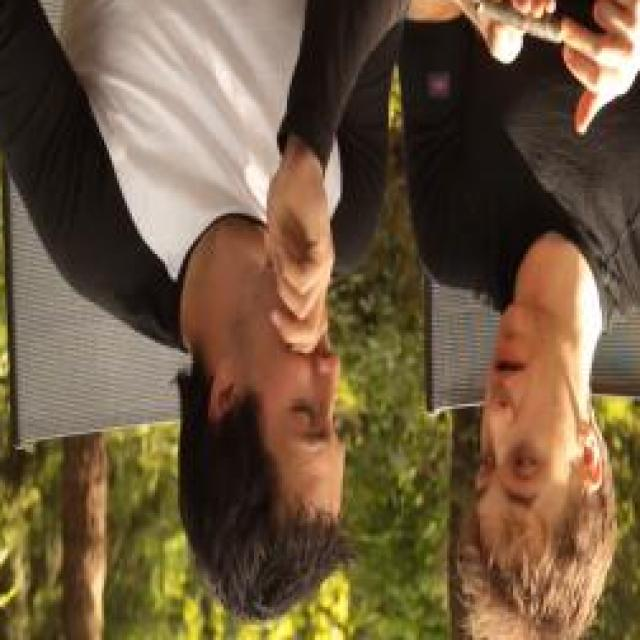knife: (398, 0, 610, 99)
